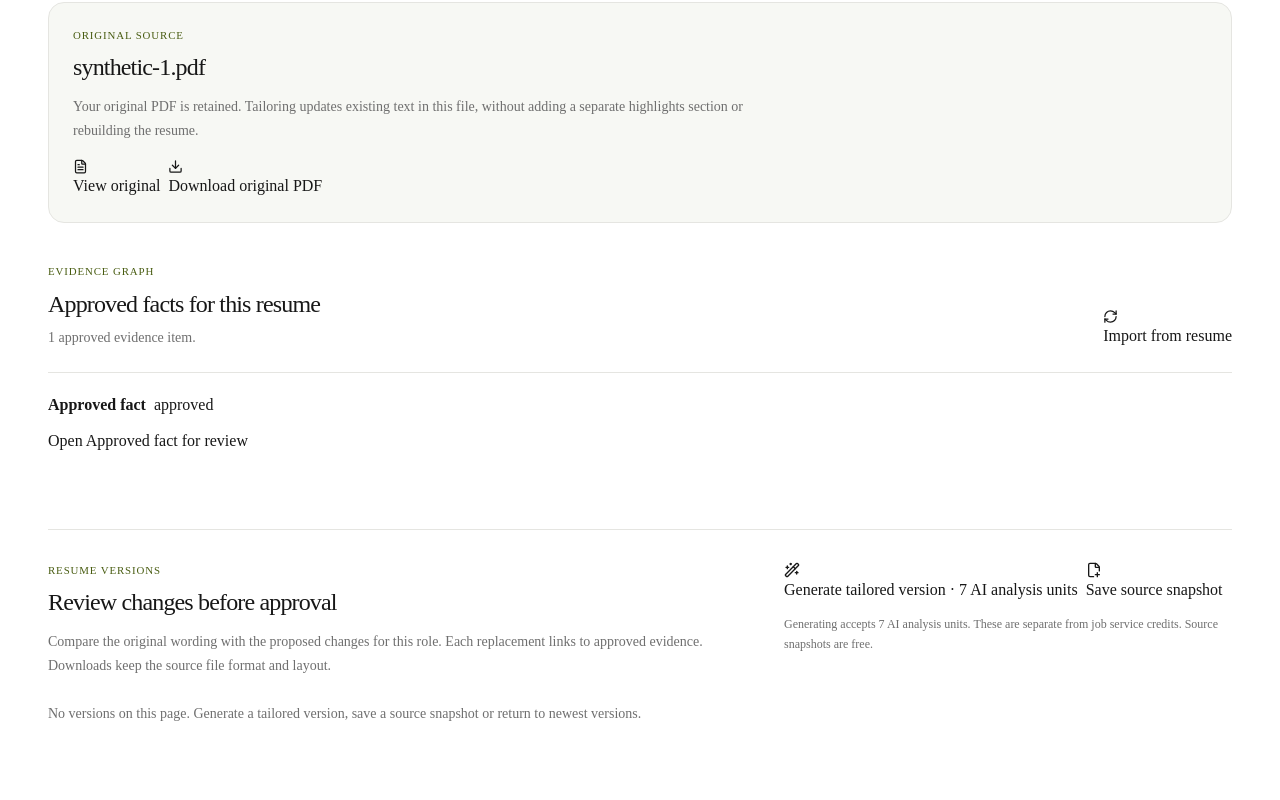
Scenario: does not offer transcription approval when the source review is unavailable or unmapped
The width and height of the screenshot is (1280, 800).
Later steps or results of the test are not shown.
(page scrolled)
What coordinates should you click on to do the following:
click the button "Open Approved fact for review"
I would click on:
 (148, 441)
Its box is [48, 429, 248, 453].
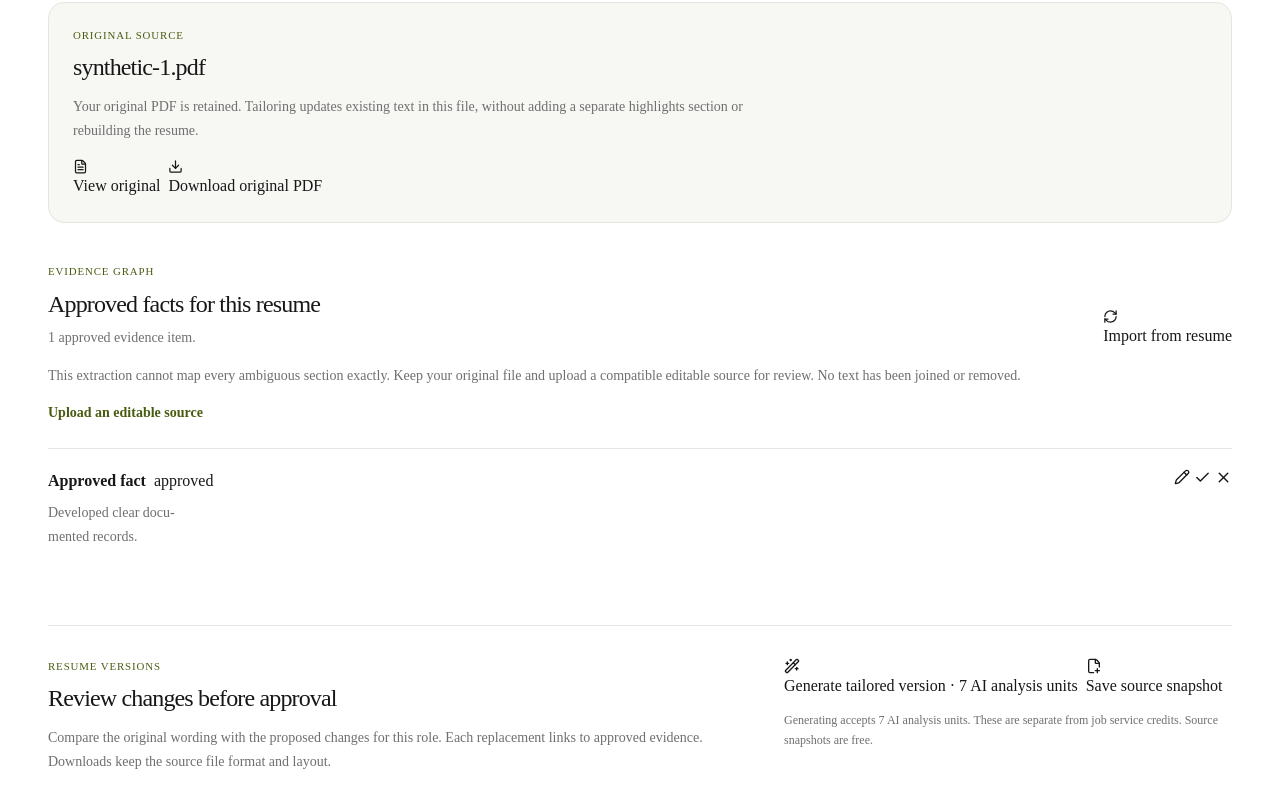
Expected: the button named "Edit evidence" is shown, [1174, 469, 1190, 485]
Expected: the text "This extraction cannot map every ambiguous section exactly" is shown, [48, 368, 1021, 383]
